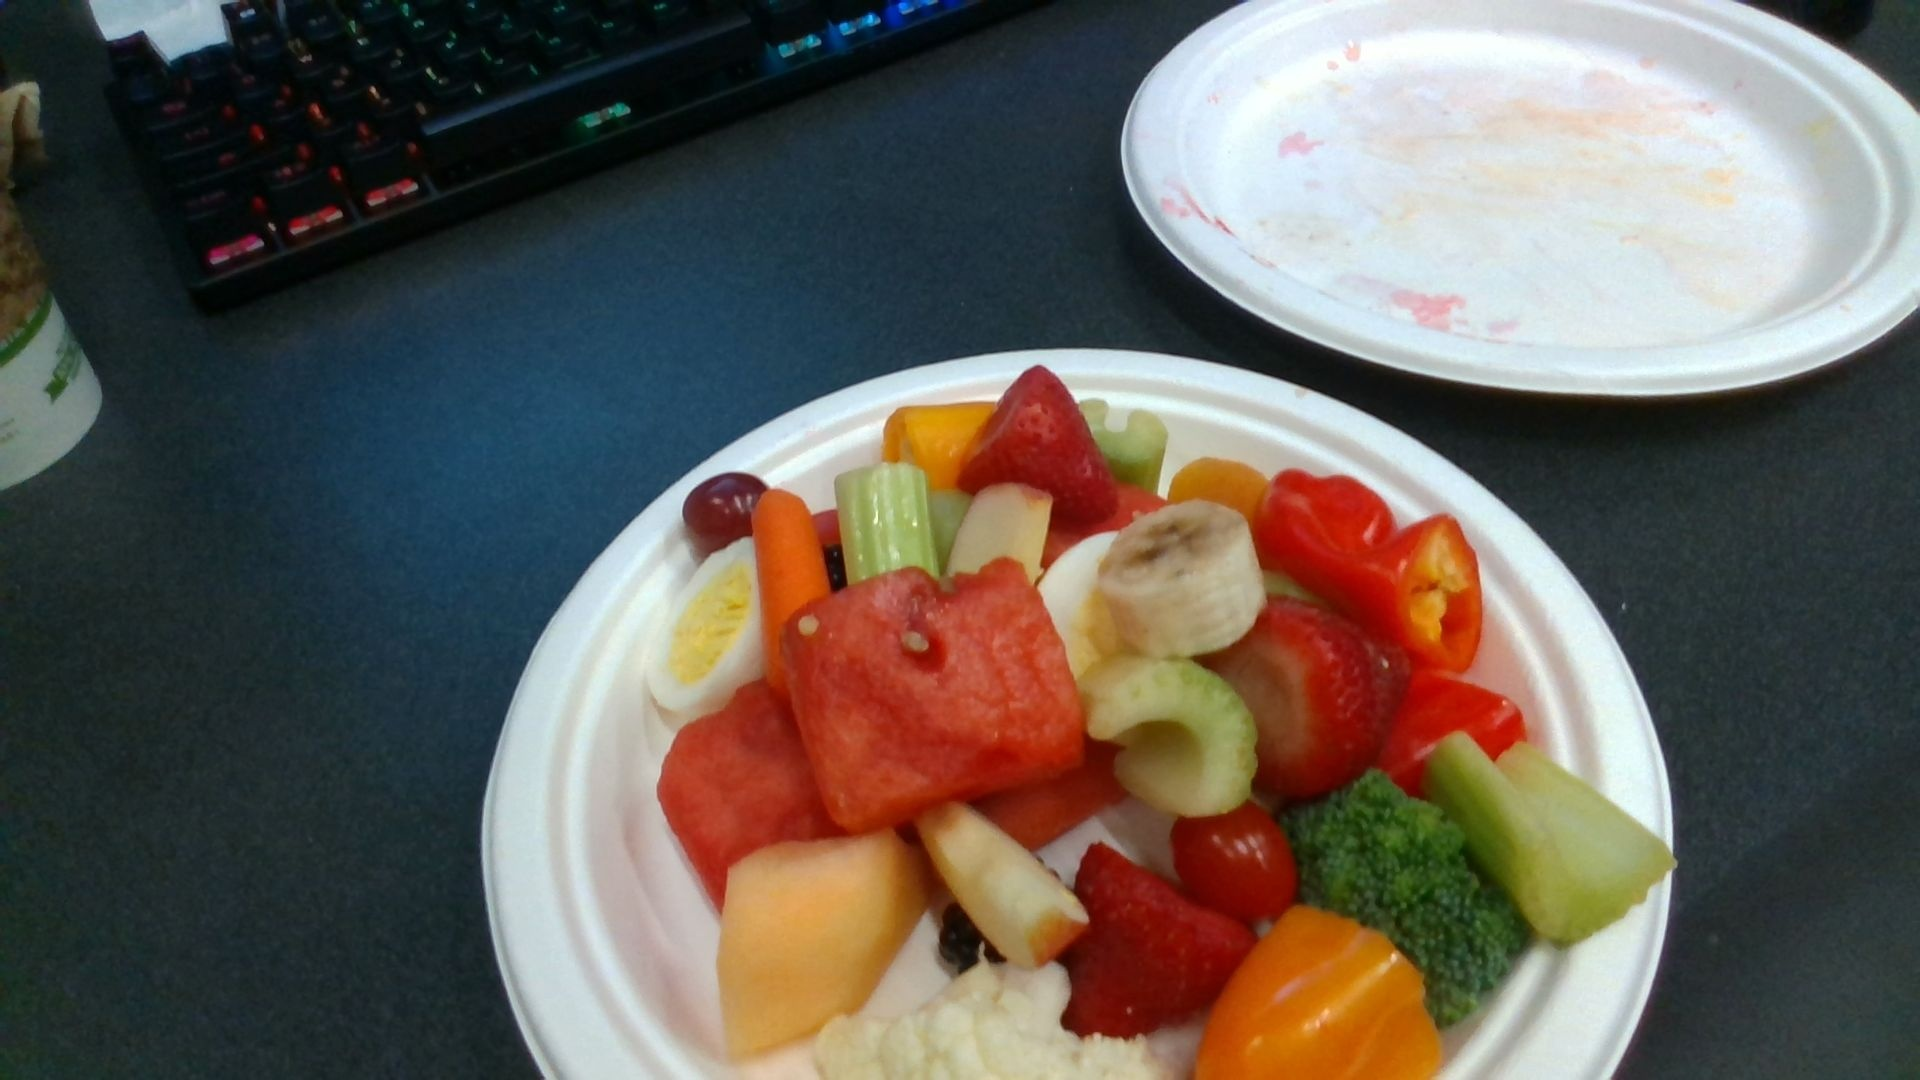apple: (915, 800, 1087, 965), (949, 487, 1052, 588)
banana: (1100, 501, 1259, 655)
bell_pepper: (1251, 473, 1482, 670), (1199, 909, 1444, 1080), (1379, 671, 1524, 790)
broccoli: (1287, 778, 1528, 1015)
cantalope: (723, 833, 930, 1054)
carrot: (752, 491, 833, 686)
cauliflower: (815, 963, 1176, 1080)
celery: (1432, 733, 1675, 943), (1073, 659, 1255, 814), (833, 463, 938, 582)
cherry_tomato: (1174, 814, 1294, 916)
egg: (649, 538, 762, 715)
grape_purple: (684, 475, 769, 553)
melon: (782, 564, 1085, 825), (659, 680, 837, 911)
strawberry: (1195, 595, 1395, 791), (1069, 843, 1259, 1033), (960, 368, 1120, 518)
